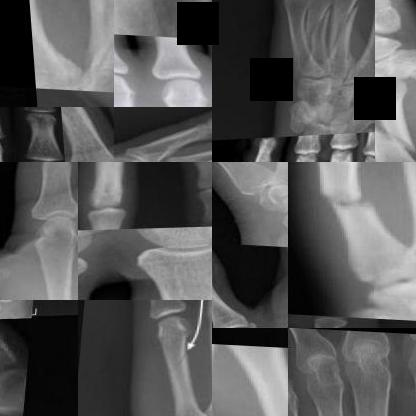fracture: (62, 0, 114, 66), (314, 178, 374, 227), (375, 103, 415, 161), (329, 7, 366, 60), (0, 346, 33, 401), (300, 10, 334, 62), (163, 346, 194, 384)
